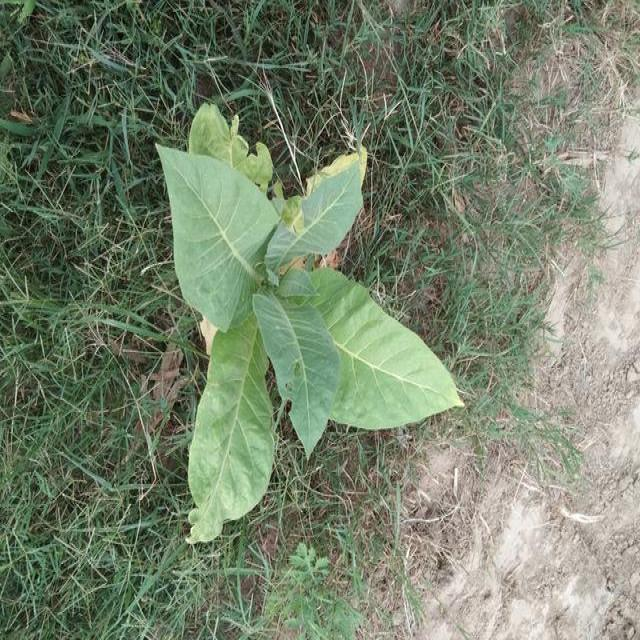crop: (149, 85, 473, 555)
